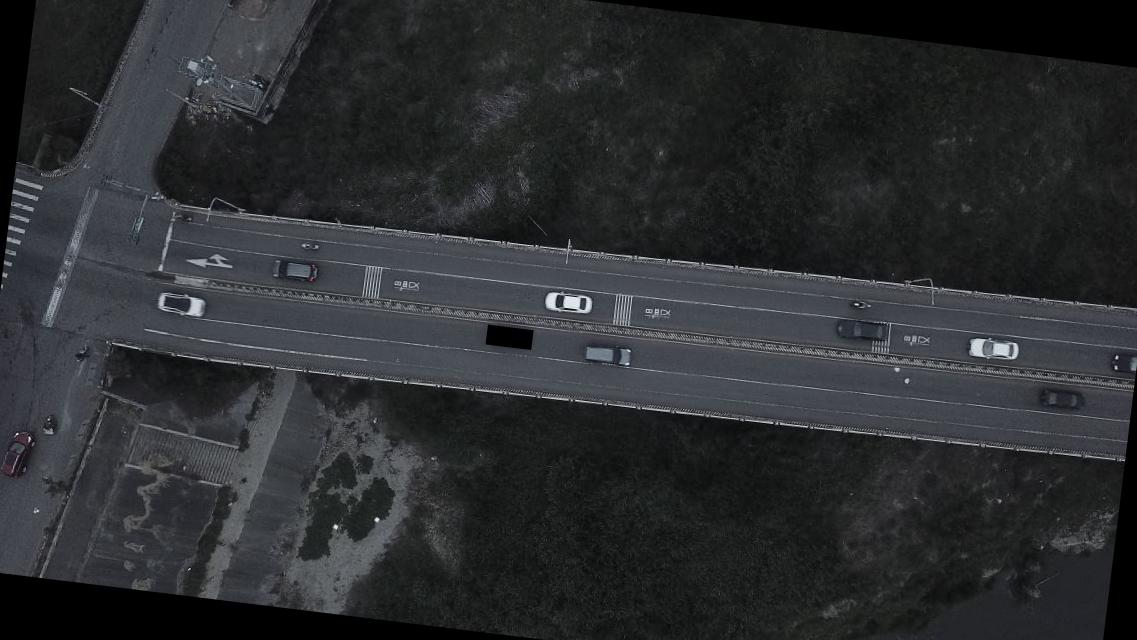vehicle: (0, 427, 36, 480), (154, 288, 208, 320), (967, 334, 1018, 363), (835, 317, 889, 343), (542, 288, 592, 316), (581, 340, 632, 367), (270, 256, 319, 284), (1038, 386, 1086, 410), (1110, 350, 1136, 374)
